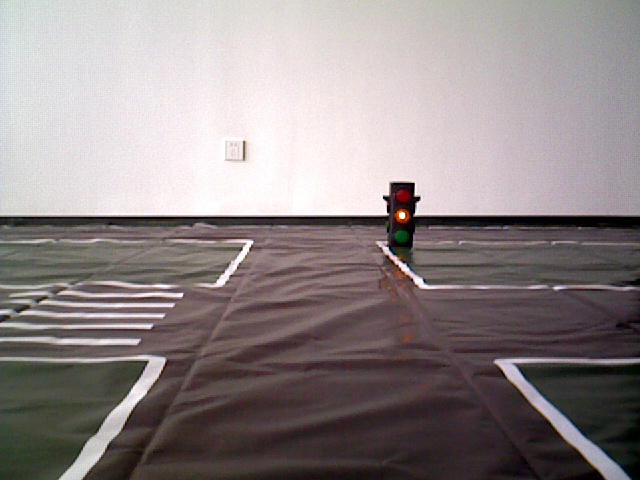yellow: (386, 178, 419, 251)
